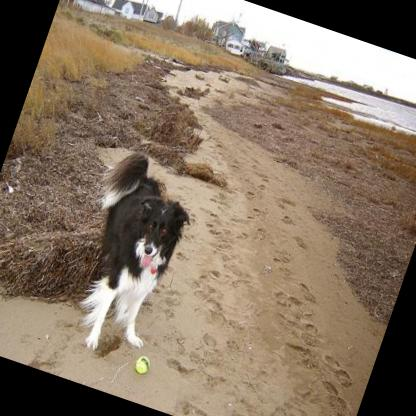Border_collie: (45, 141, 209, 370)
